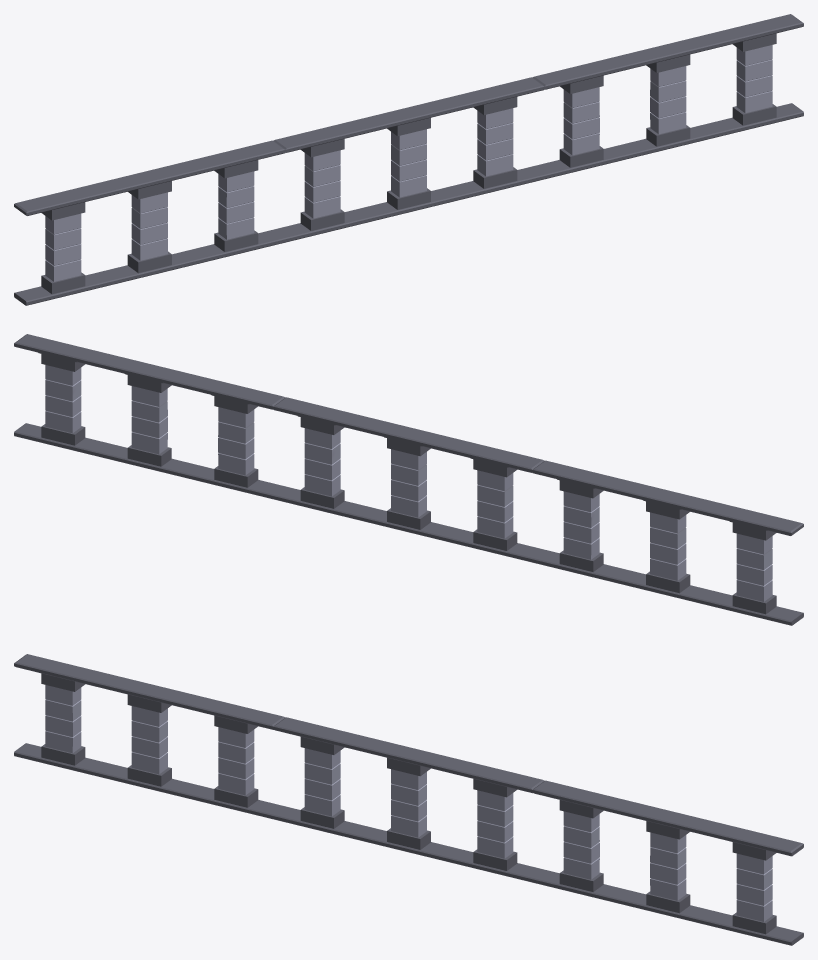
File: cerquinha.fbx
3 renders of one model, top to bottom at view 1: azimuth 30°, elevation 25°; view 2: azimuth 150°, elevation 25°; view 3: azimuth 330°, elevation 25°, orthographic.
Visible parts, largest first — view 1: coluna quadrada.051; view 2: coluna quadrada.051; view 3: coluna quadrada.051.
Part boxes in pixels (<box>): coluna quadrada.051: <box>14,14,803,305</box>; coluna quadrada.051: <box>14,334,803,625</box>; coluna quadrada.051: <box>14,654,803,945</box>.
Size of the model in its own units: 432 by 50 by 12.
